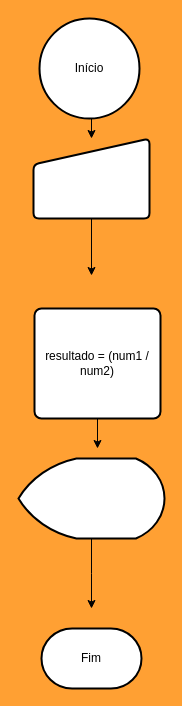
This 182x706 diagram has some shape labels left out. Here are the shapes that lost their labels. From the top down, the centre of each, then its label:
the point at 91,178: num1, num2, resultado
the point at 91,498: "O seu resultado é "resultado""
